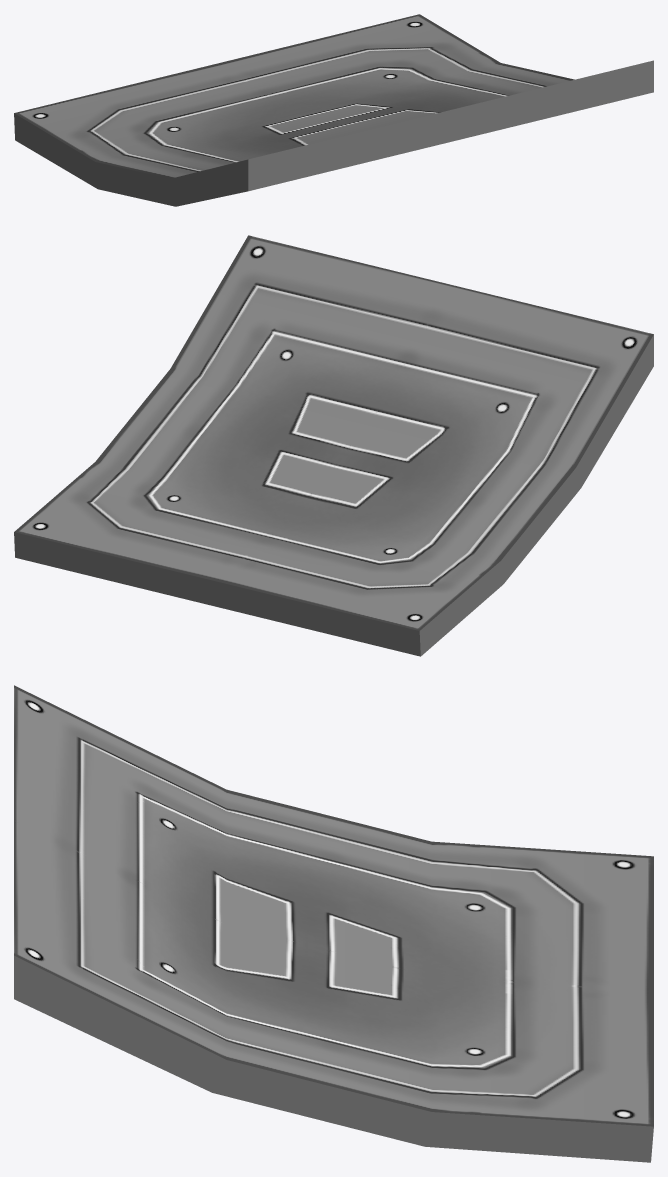
The model's file is space_ramp.gltf.
The picture shows the model from 3 angles, top to bottom: view 1: azimuth 30°, elevation 25°; view 2: azimuth 150°, elevation 25°; view 3: azimuth 270°, elevation 25°; orthographic projection. The views are drawn at different scales.
Parts seen in each view (by area): view 1: space_ramp_glb; view 2: space_ramp_glb; view 3: space_ramp_glb.
Boxes of the visible parts, bbox=[...] form: space_ramp_glb: bbox=[14, 14, 653, 206]; space_ramp_glb: bbox=[14, 235, 653, 656]; space_ramp_glb: bbox=[14, 685, 653, 1162].
Size of what is drawn, in the model's own units: 4.02 by 1.44 by 4.02.
Materials: 1 (1 with a texture image).
